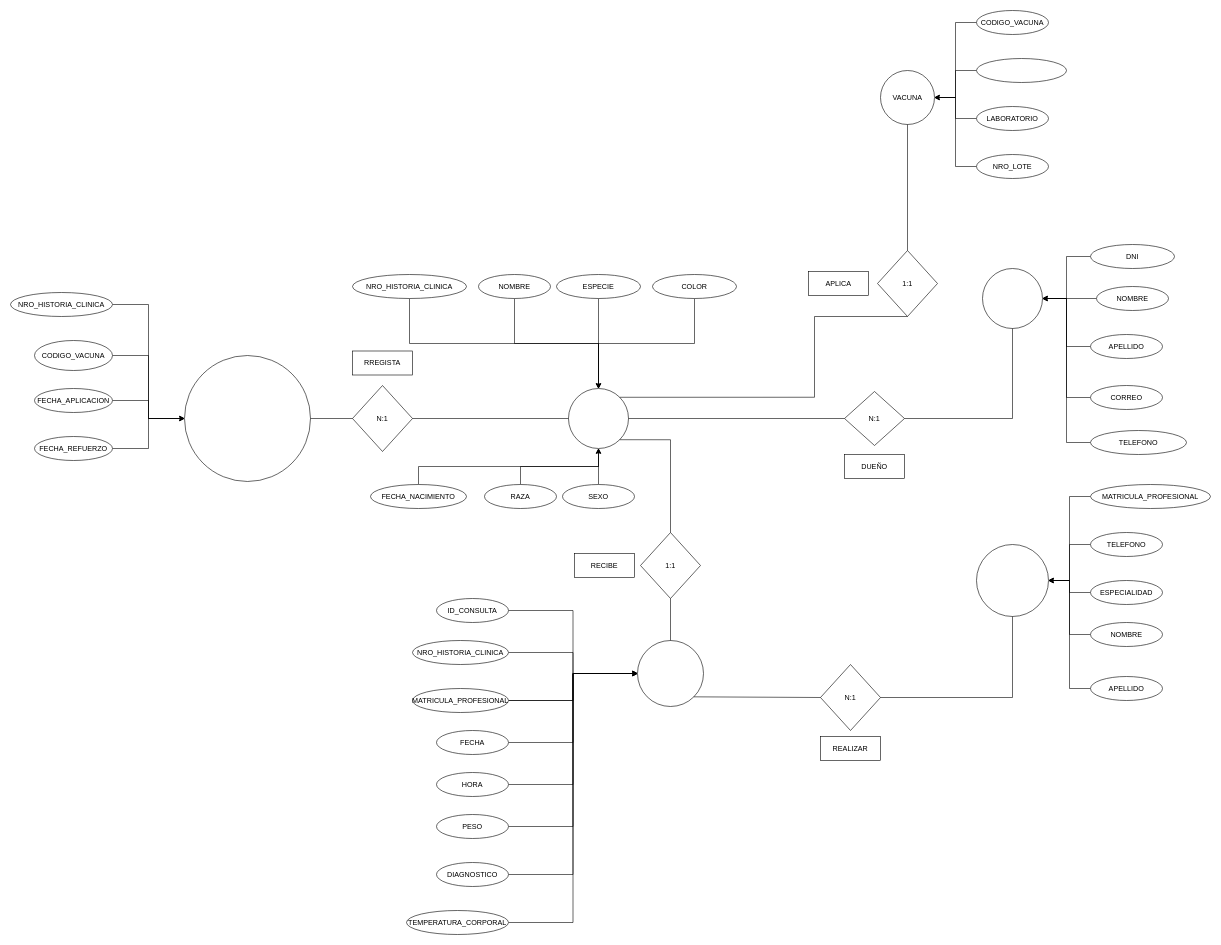
The diagram is 1221 pixels wide and 945 high, and some of its shapes have lost their labels. The shapes that lost their labels are listed below. From the top down, each one's centre as x and y in pixels, then its label:
At [1021,70]: "NOMBRE_COMERCIAL".
At [1012,298]: "TITULAR".
At [247,418]: "REGISTRO_APLICACION_VACUNA".
At [598,418]: "MASCOTA".
At [1012,580]: "VETERINARIO".
At [670,673]: "CONSULTA".
